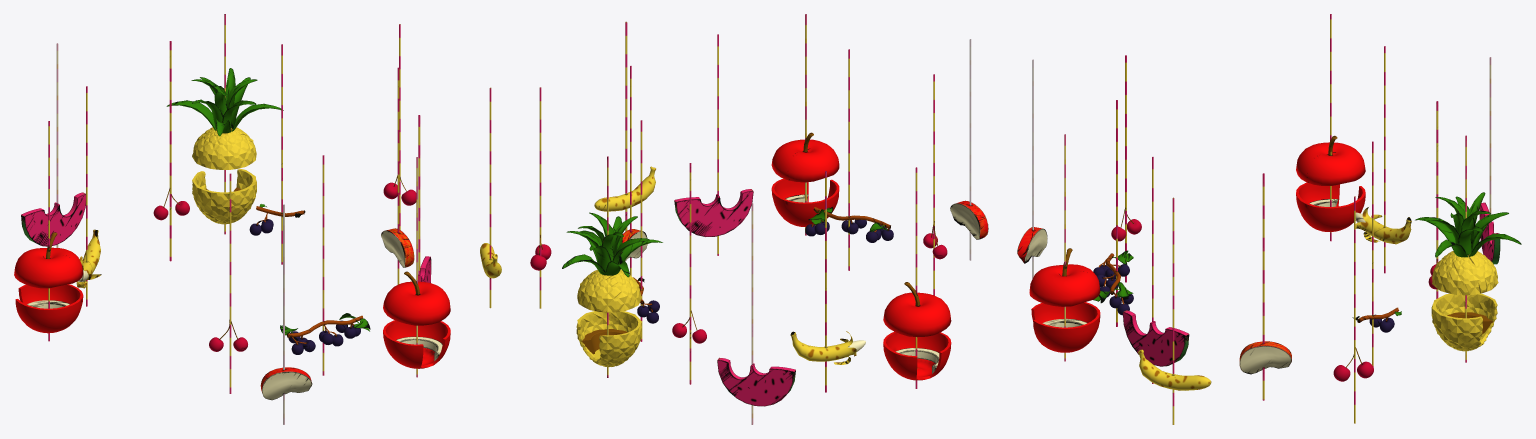
The model's file is props_CarouselFruits.fbx.
The picture shows the model from 3 angles, left to right: view 1: azimuth 30°, elevation 25°; view 2: azimuth 150°, elevation 25°; view 3: azimuth 270°, elevation 25°; orthographic projection. The views are drawn at different scales.
Visible parts, largest first — view 1: BezierCurve.043, BezierCurve.025, BezierCurve.041, Plane.012, BezierCurve.033, Plane.021, BezierCurve.008, BezierCurve.005, BezierCurve.040, Cylinder.059, Cylinder.008, Cylinder.049 (+6 smaller); view 2: Plane.012, BezierCurve.041, BezierCurve.008, BezierCurve.039, BezierCurve.025, BezierCurve.043, Plane.021, BezierCurve.033, Cylinder.059, Cylinder.012, BezierCurve.005, Cylinder.008 (+10 smaller); view 3: Plane.012, BezierCurve.033, BezierCurve.041, BezierCurve.025, Plane.021, BezierCurve.043, BezierCurve.039, BezierCurve.040, Cylinder.012, Cylinder.059, BezierCurve.005, Cylinder.044 (+3 smaller).
Boxes of the visible parts, x1,y1,x2,y2 form: BezierCurve.043: [15, 284, 83, 333]; BezierCurve.025: [383, 281, 450, 325]; BezierCurve.041: [14, 247, 83, 288]; Plane.012: [192, 169, 256, 224]; BezierCurve.033: [383, 320, 450, 368]; Plane.021: [192, 127, 256, 169]; BezierCurve.008: [21, 192, 85, 246]; BezierCurve.005: [260, 367, 312, 400]; BezierCurve.040: [381, 228, 414, 267]; Cylinder.059: [76, 229, 101, 288]; Cylinder.008: [169, 41, 171, 261]; Cylinder.049: [229, 173, 231, 393]; Plane.012: [576, 311, 641, 367]; BezierCurve.041: [883, 292, 951, 337]; BezierCurve.008: [717, 357, 795, 406]; BezierCurve.039: [674, 189, 753, 236]; BezierCurve.025: [771, 139, 839, 182]; BezierCurve.043: [883, 331, 951, 380]; Plane.021: [577, 269, 641, 312]; BezierCurve.033: [771, 178, 839, 226]; Cylinder.059: [790, 331, 856, 364]; Cylinder.012: [594, 166, 655, 211]; BezierCurve.005: [950, 200, 988, 239]; Cylinder.008: [689, 163, 691, 384]; Plane.012: [1431, 293, 1497, 351]; BezierCurve.033: [1031, 302, 1100, 352]; BezierCurve.041: [1296, 142, 1365, 185]; BezierCurve.025: [1029, 264, 1100, 306]; Plane.021: [1432, 251, 1498, 295]; BezierCurve.043: [1296, 182, 1365, 231]; BezierCurve.039: [1122, 310, 1189, 366]; BezierCurve.040: [1239, 341, 1291, 374]; Cylinder.012: [1138, 349, 1211, 390]; Cylinder.059: [1355, 207, 1411, 244]; BezierCurve.005: [1017, 227, 1047, 263]; Cylinder.044: [1172, 197, 1174, 424].
Bounding box in the file's own units: 10.98 × 5.62 × 11.33.
